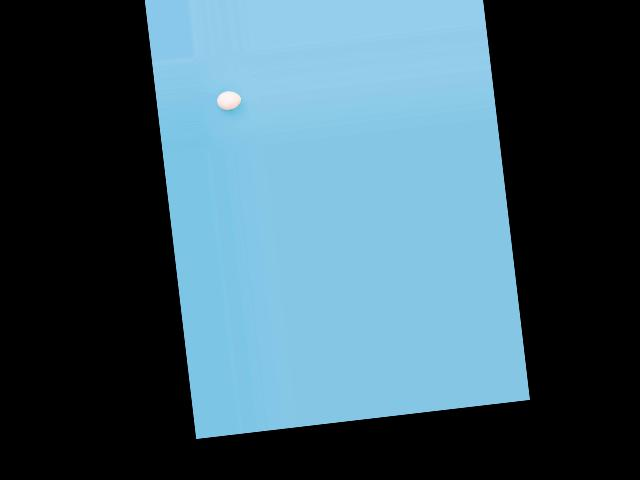egg: (215, 89, 242, 111)
